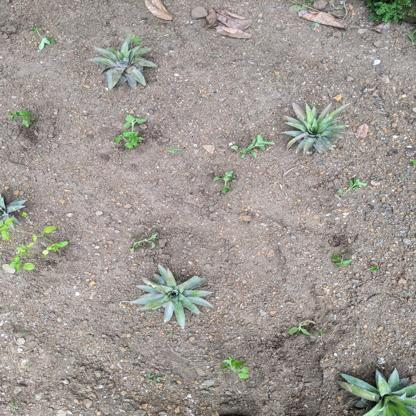pineapple: (123, 262, 219, 331), (281, 99, 352, 155), (87, 36, 161, 89), (336, 367, 416, 416)
weed: (1, 193, 70, 274), (112, 111, 155, 150), (7, 107, 49, 144), (232, 134, 275, 159), (218, 354, 254, 382), (212, 167, 242, 195)
